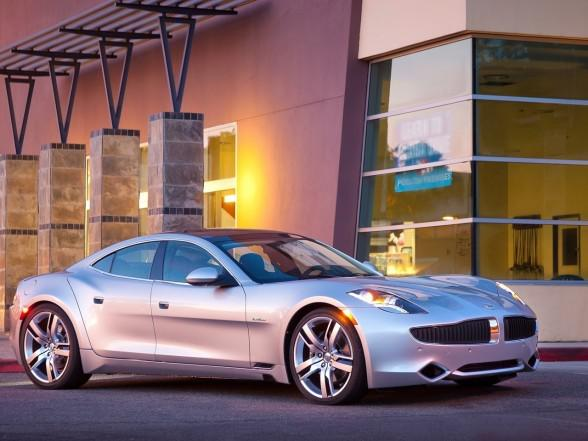Car: (14, 214, 545, 411)
